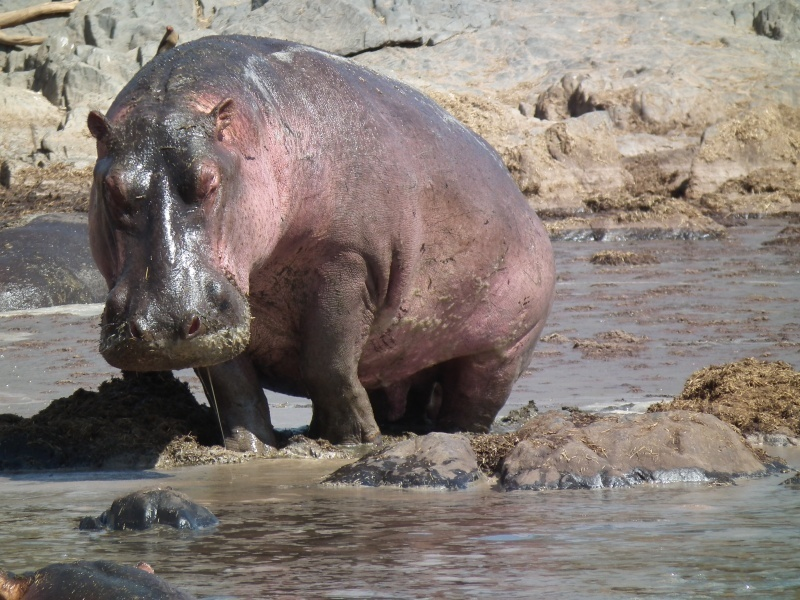hipopotamo: (71, 19, 562, 465)
